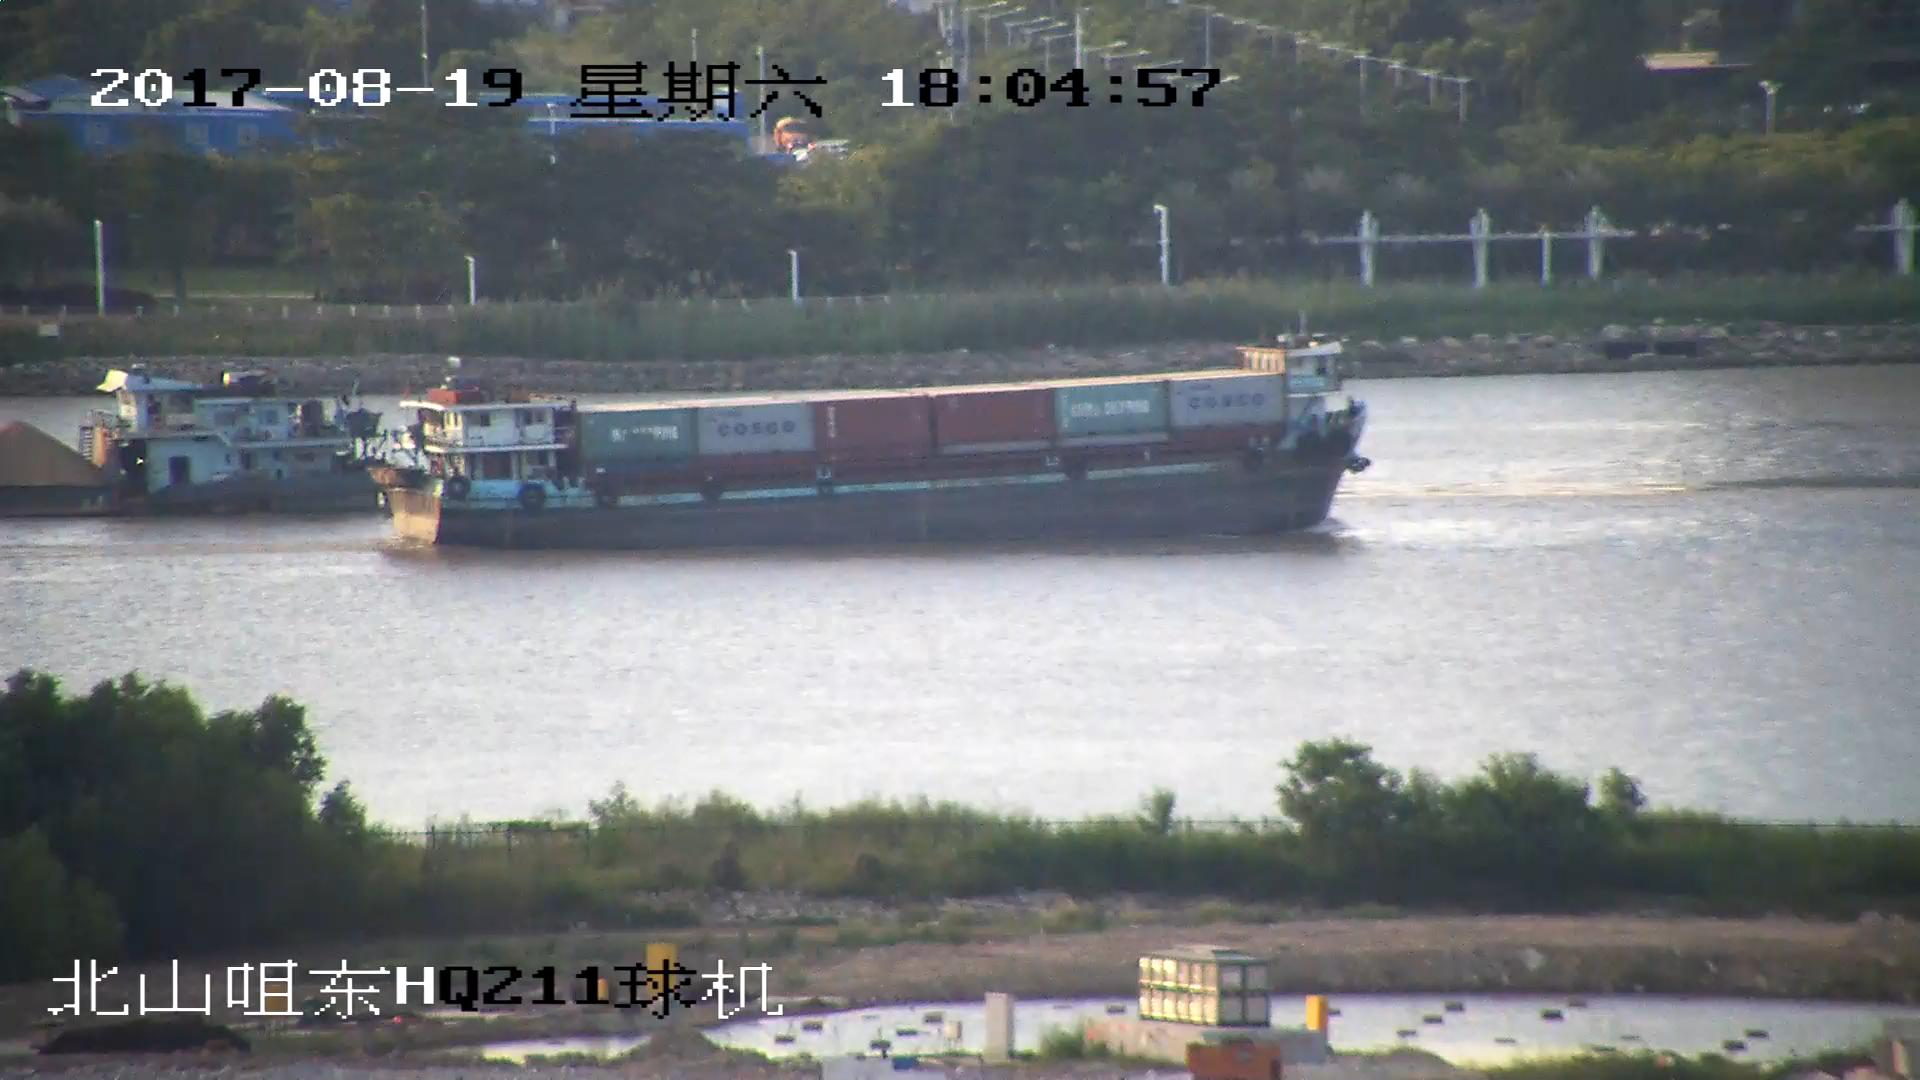container ship: (378, 370, 1372, 554)
ore carrier: (1, 372, 367, 517)
